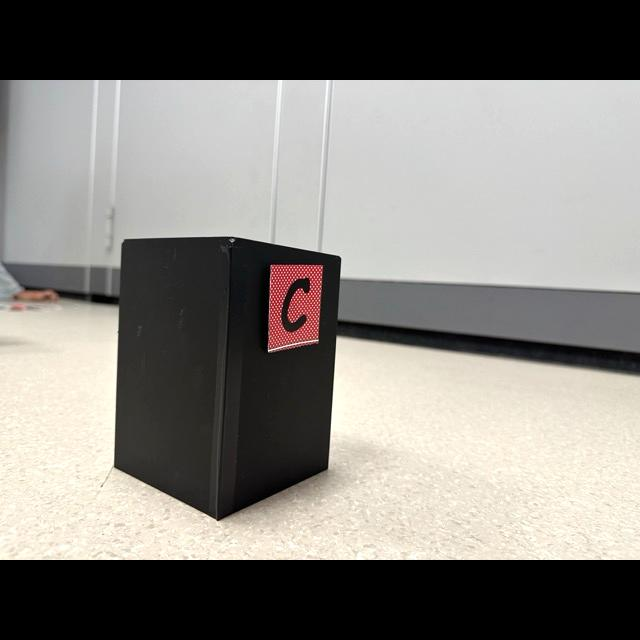C: (281, 278, 309, 331)
